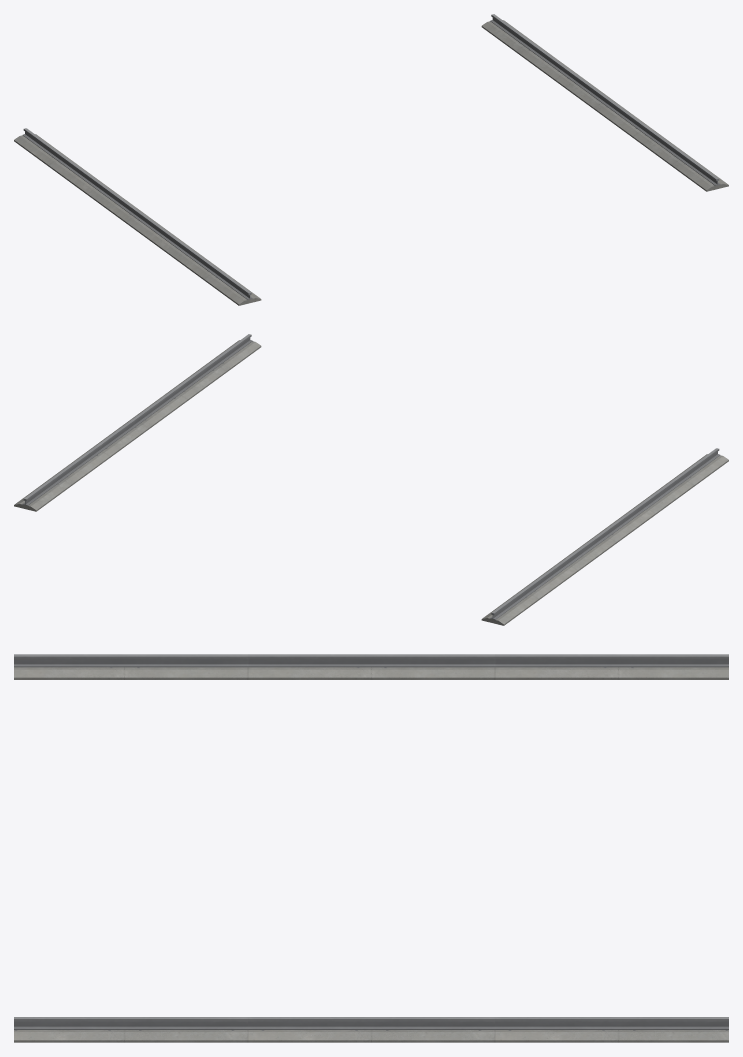
File: rails.FBX
3 views of the same model, one above another, from view 1: azimuth 30°, elevation 25°; view 2: azimuth 150°, elevation 25°; view 3: azimuth 270°, elevation 25° (orthographic). The views are drawn at different scales.
Parts seen in each view (by area): view 1: rails; view 2: rails; view 3: rails.
Part boxes in pixels (box(x1,y1,x2,y2)): rails: box(14, 14, 728, 305); rails: box(14, 334, 728, 625); rails: box(14, 654, 728, 1042).
Size of the model in its own units: 1257 by 24.63 by 1000.
